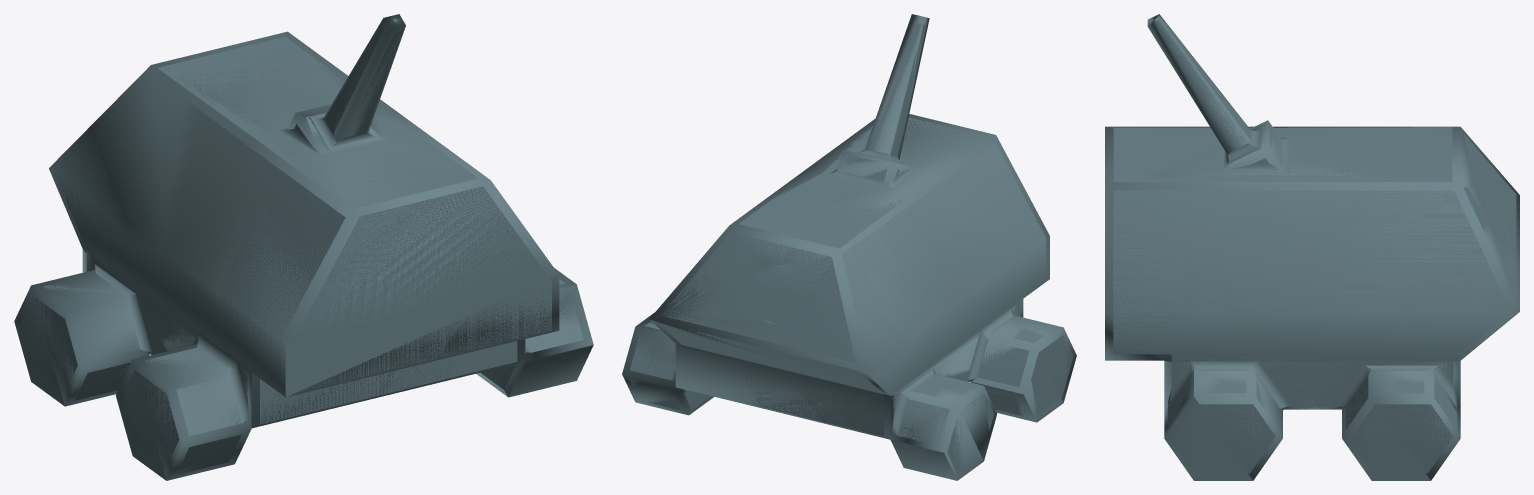
The model's file is space-kit__rover.glb.
3 renders of one model, left to right at view 1: azimuth 30°, elevation 25°; view 2: azimuth 150°, elevation 25°; view 3: azimuth 270°, elevation 25°, orthographic. The views are drawn at different scales.
Parts seen in each view (by area): view 1: L0_dark, L1_dark; view 2: L0_dark, L1_dark; view 3: L0_dark, L1_dark.
Part boxes in pixels (bbox=[...]): L0_dark: bbox=[18, 21, 583, 473]; L1_dark: bbox=[14, 14, 593, 480]; L0_dark: bbox=[630, 22, 1073, 473]; L1_dark: bbox=[622, 14, 1076, 480]; L0_dark: bbox=[1113, 21, 1516, 473]; L1_dark: bbox=[1105, 14, 1519, 480].
Bounding box in the file's own units: 1 × 1 × 1.
